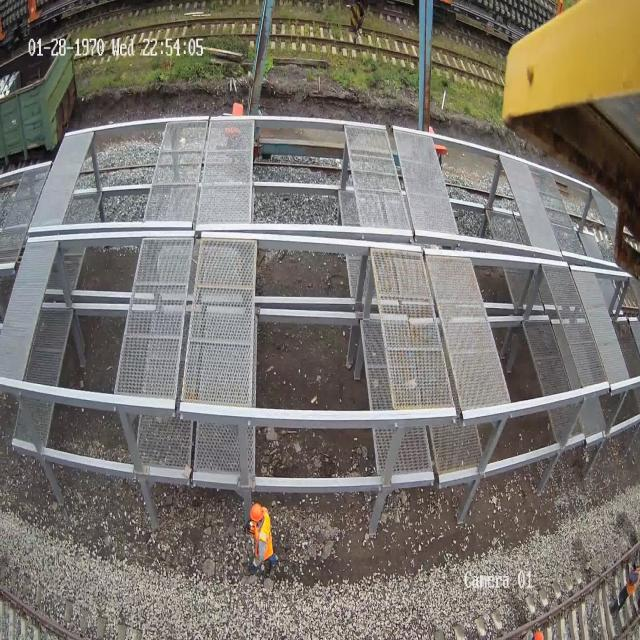Helmet: (250, 502, 263, 522)
Person: (246, 503, 277, 576)
